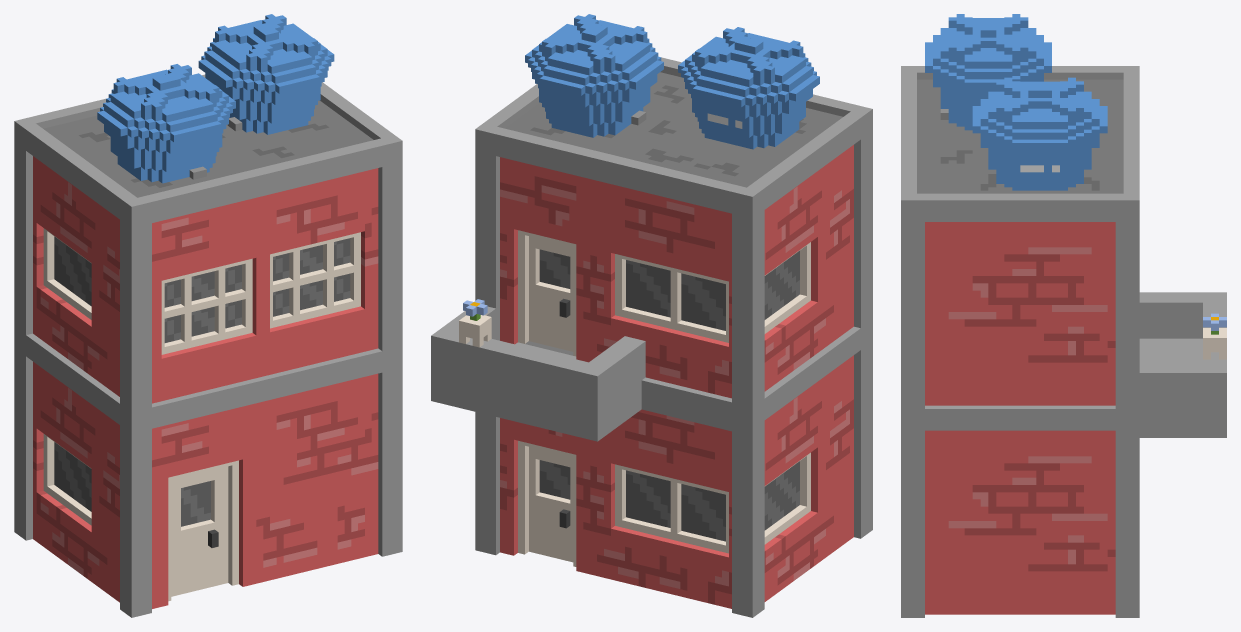
File: variaçõesdecorcasa-3.obj
The picture shows the model from 3 angles, left to right: view 1: azimuth 30°, elevation 25°; view 2: azimuth 150°, elevation 25°; view 3: azimuth 270°, elevation 25°; orthographic projection. The views are drawn at different scales.
Size of the model in its own units: 4 by 6.9 by 4.1.
Materials: 1 (1 with a texture image).
